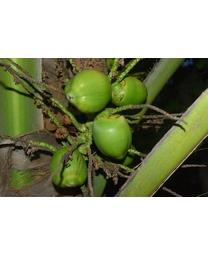coconut: (91, 109, 132, 162), (65, 70, 111, 114), (51, 146, 88, 188), (110, 76, 148, 112)
